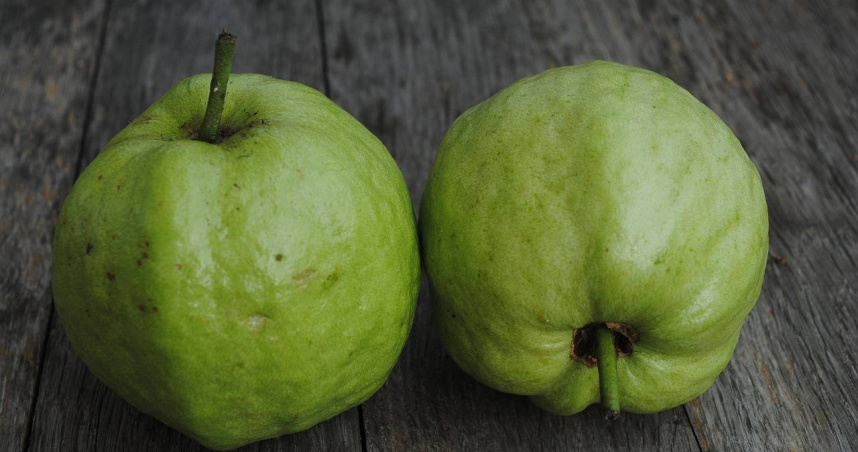guava: (51, 37, 424, 449), (423, 58, 772, 424)
